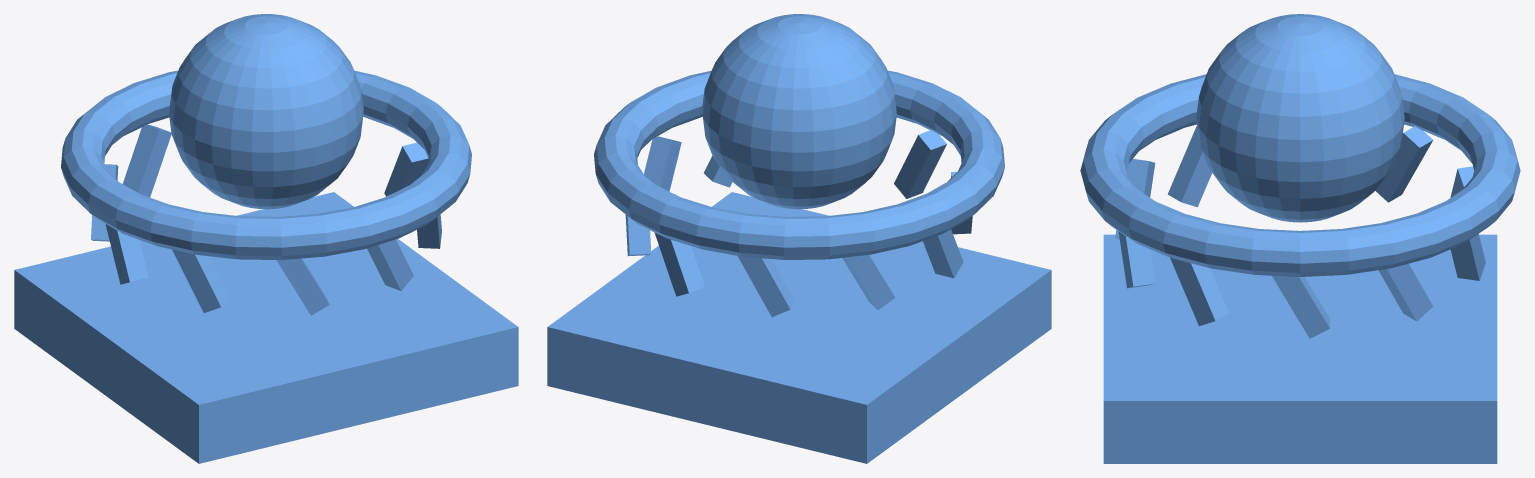
The picture shows the model from 3 angles, left to right: view 1: azimuth 30°, elevation 25°; view 2: azimuth 150°, elevation 25°; view 3: azimuth 270°, elevation 25°; orthographic projection. The views are drawn at different scales.
Parts seen in each view (by area): view 1: rep_shield_generator_sketchfab_001; view 2: rep_shield_generator_sketchfab_001; view 3: rep_shield_generator_sketchfab_001.
Part boxes in pixels (box(x1,y1,x2,y2)): rep_shield_generator_sketchfab_001: box(14, 14, 518, 463); rep_shield_generator_sketchfab_001: box(547, 14, 1051, 463); rep_shield_generator_sketchfab_001: box(1080, 14, 1520, 463).
Bounding box in the file's own units: 1.9 × 1.7 × 1.9.
